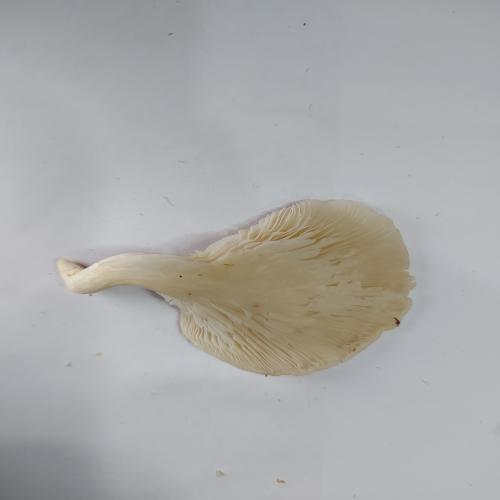Oyster Mushroom: (56, 197, 417, 377)
